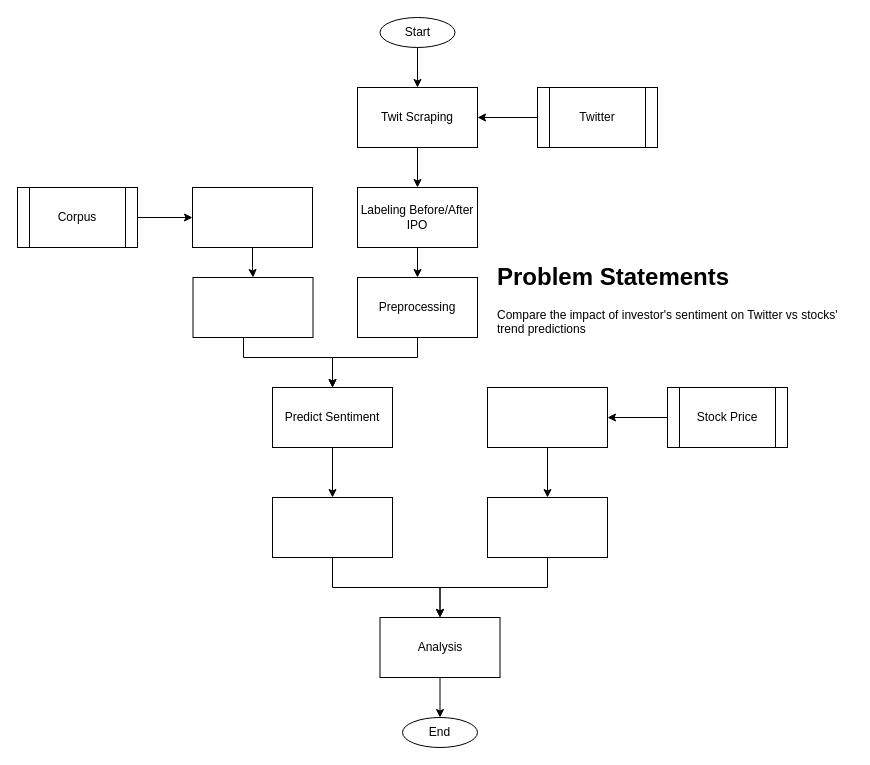
The diagram is 870 pixels wide and 765 high, and some of its shapes have lost their labels. The shapes that lost their labels are listed below. From the top down, each one's centre as x and y in pixels, then its label:
At point 252,217: "Labelled Dataset Gathering".
At point 252,307: "SVM Training Data".
At point 547,417: "Collect First 21 days of Stocks Price".
At point 332,527: "Get Delta Sentiment Before & After IPO".
At point 547,527: "LSTM Trend Prediction".
